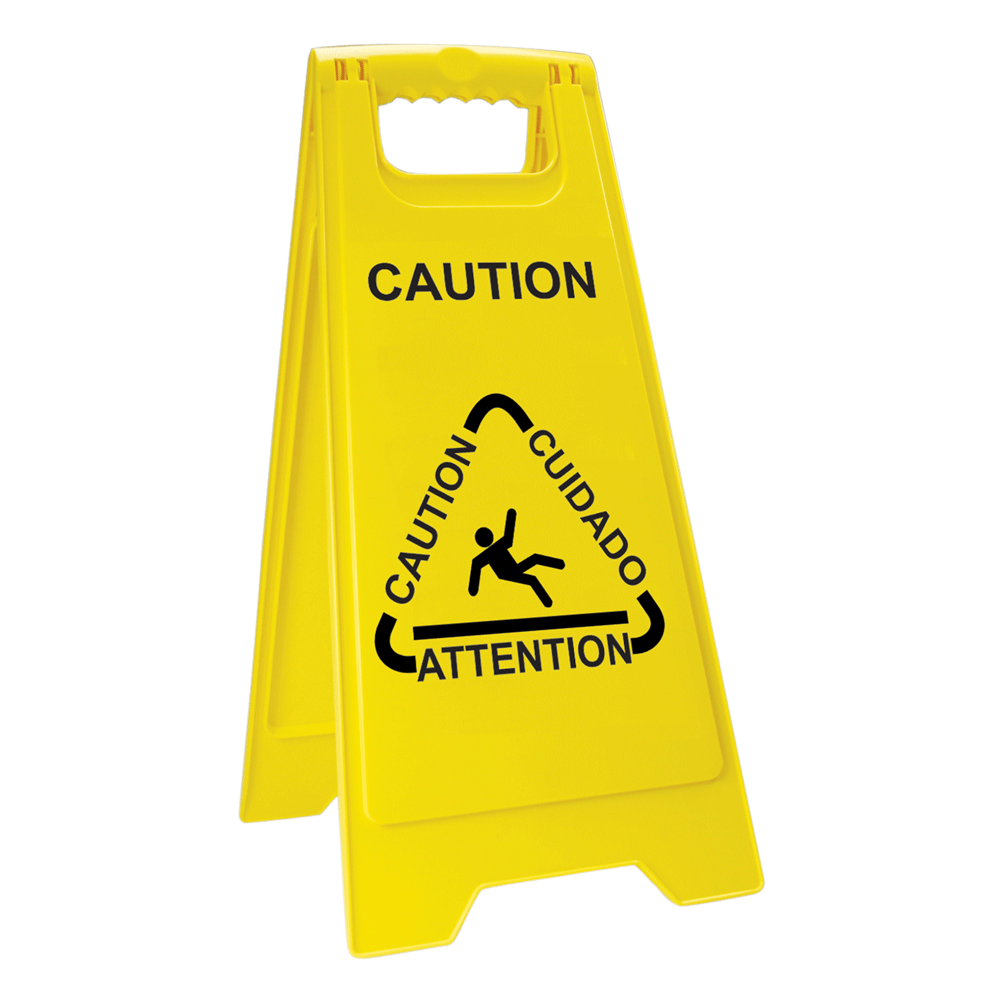wet caution sign: (222, 0, 726, 924)
